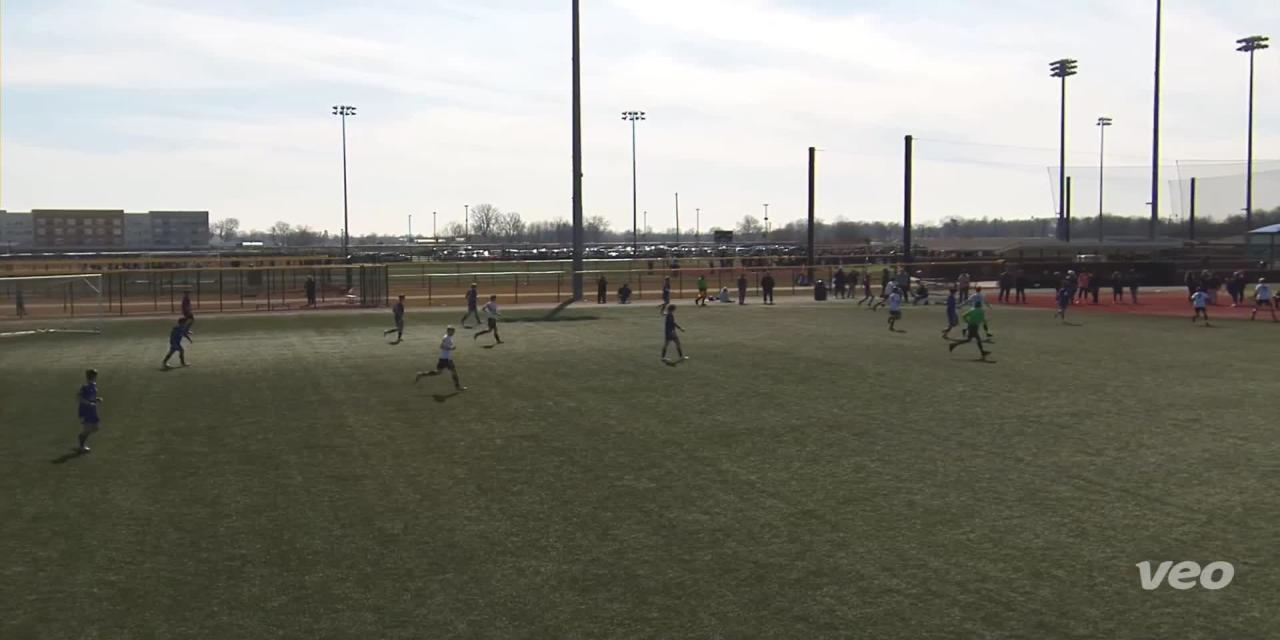goal: (0, 270, 123, 352)
